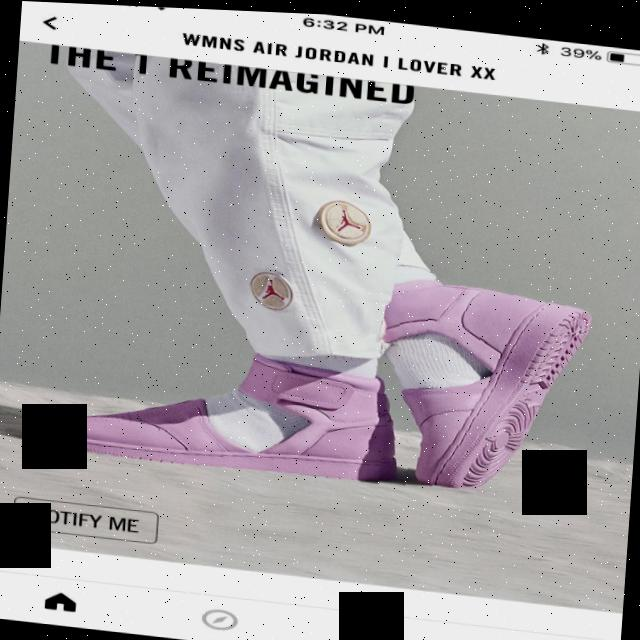shoe: (39, 303, 398, 510), (350, 261, 608, 509)
